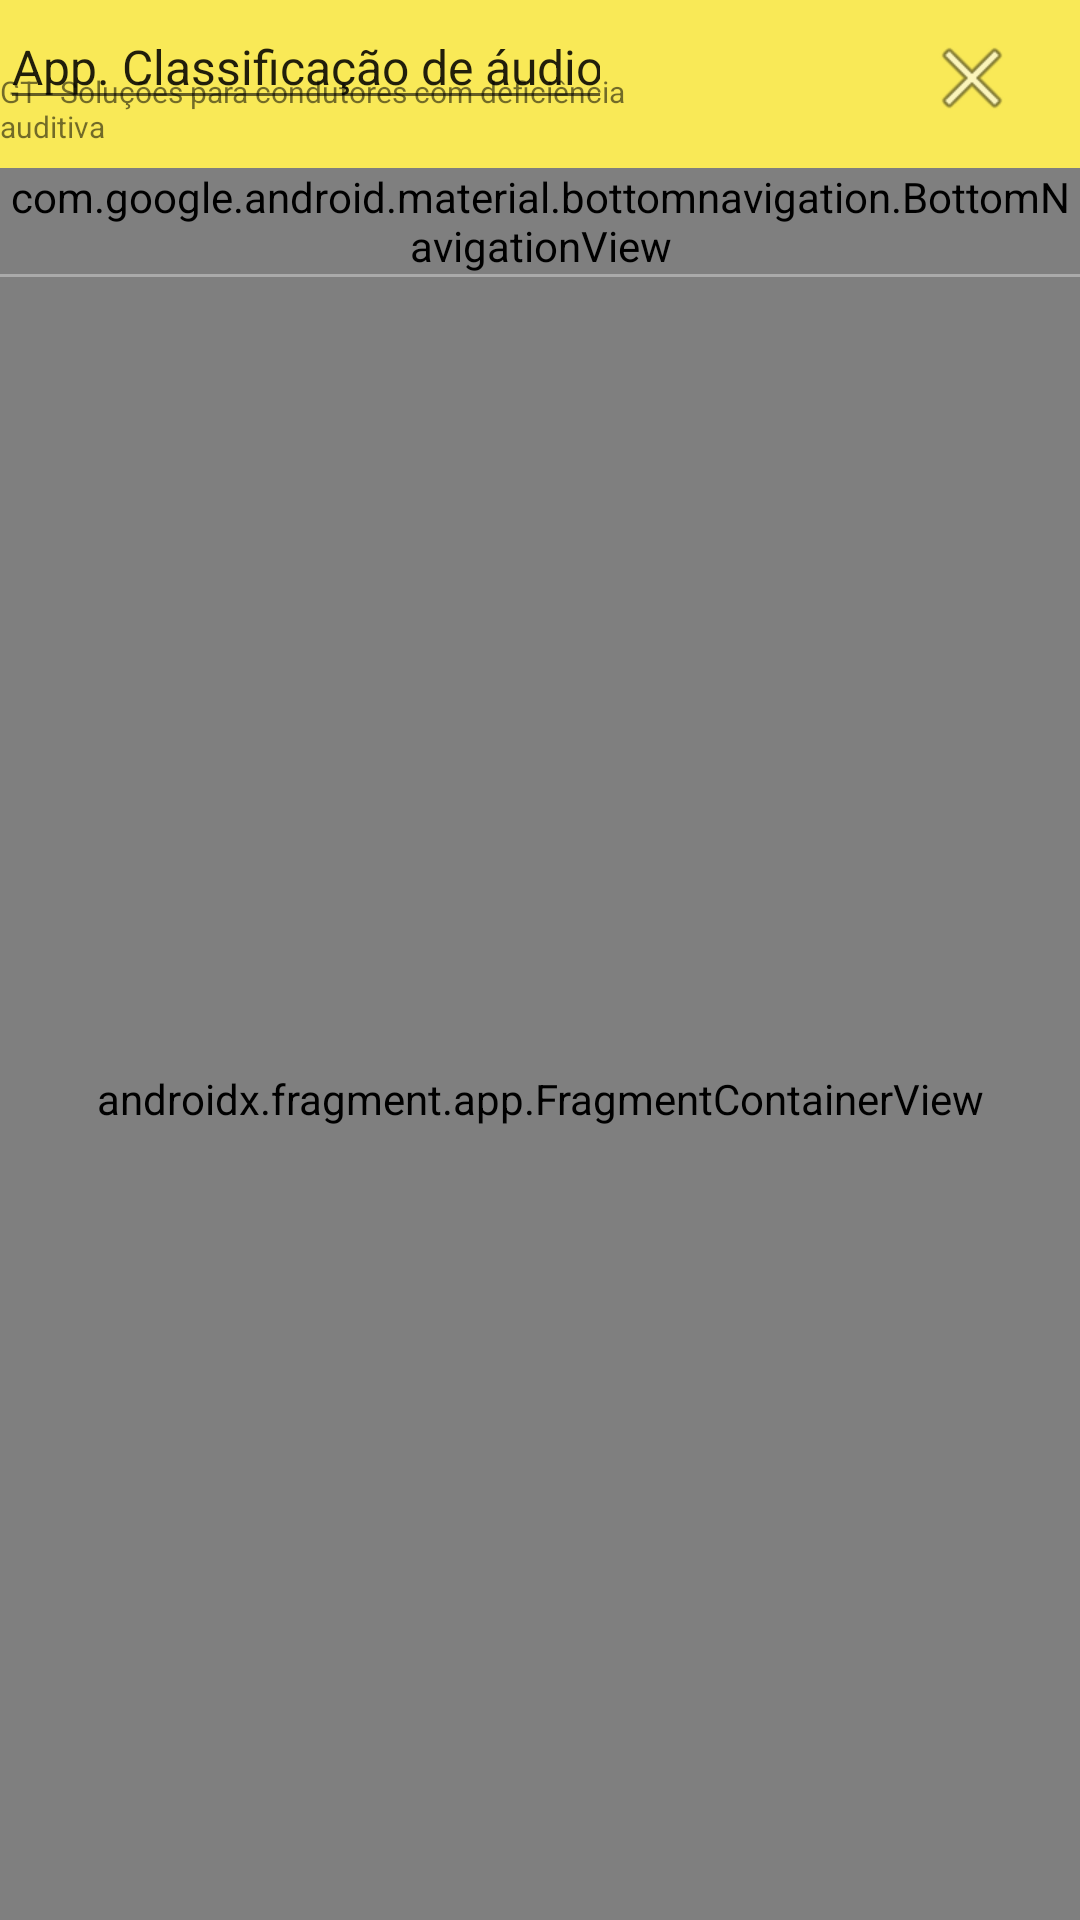

Named icons in this screenshot (1080 × 1920) and their centers, [x,y]:
close clear cancel: [972,78]
